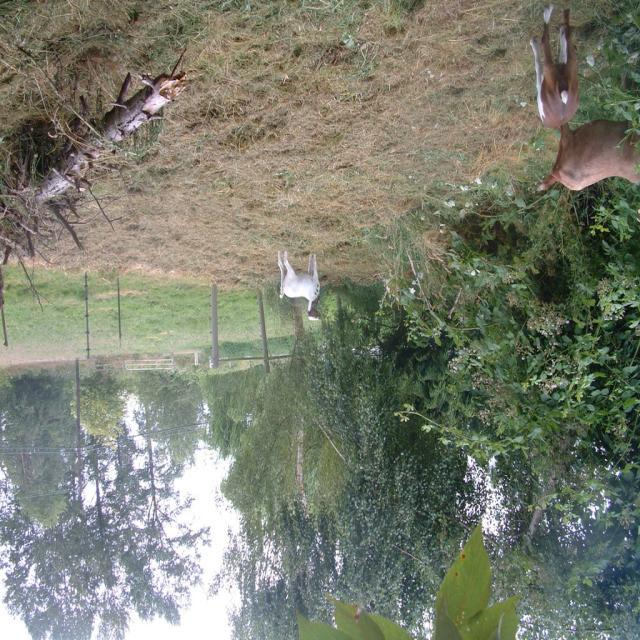Goat: (538, 119, 640, 194), (530, 4, 581, 129), (278, 250, 323, 322)
